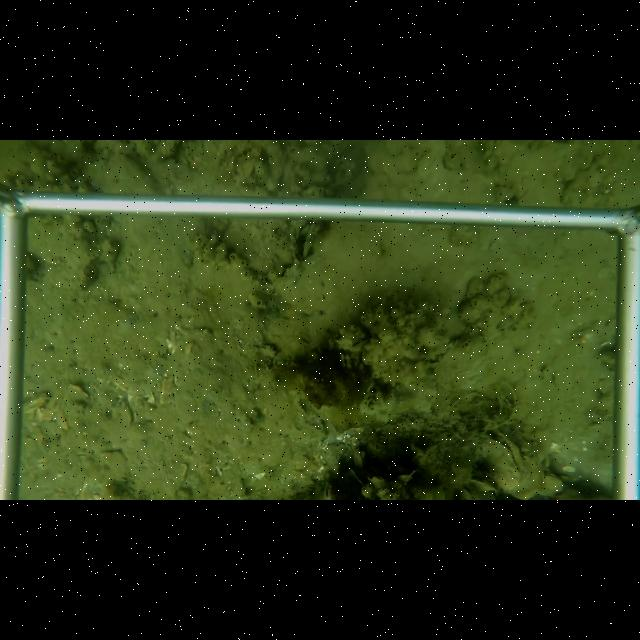Oyster-Closed: (542, 471, 566, 493), (344, 336, 372, 354)
Oyster-Open: (480, 430, 524, 493), (288, 220, 319, 265), (320, 475, 336, 499)
